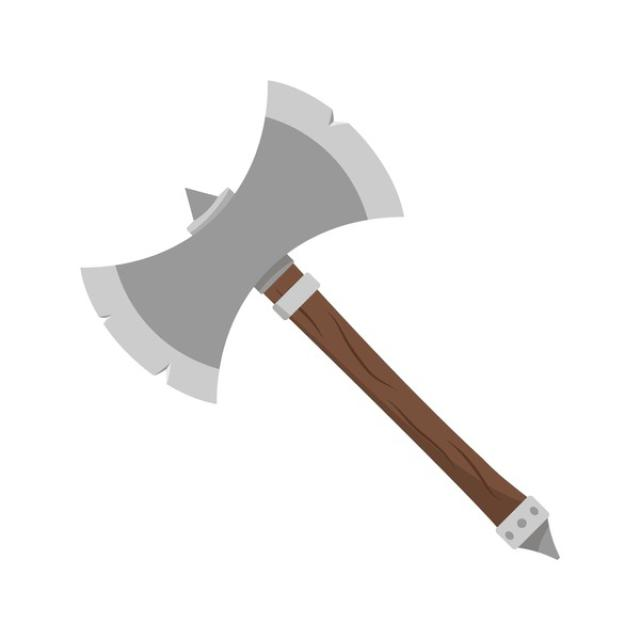Gun: (16, 64, 572, 568)
